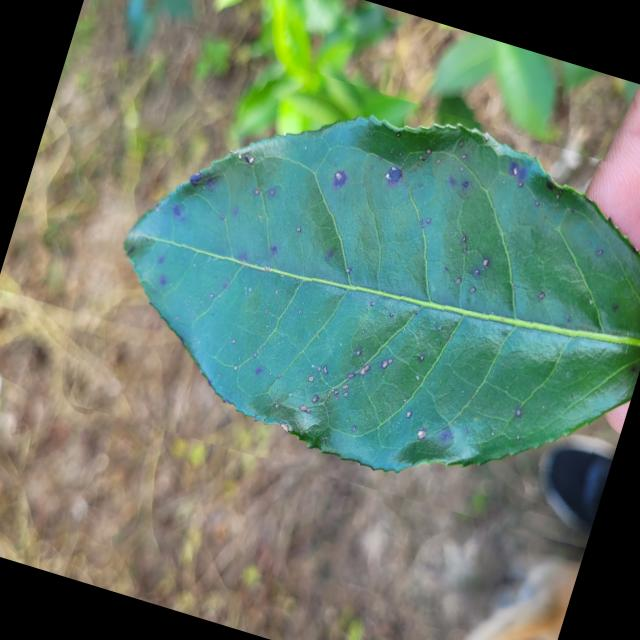Category D 7+ days, Not for Tea: (57, 27, 640, 559)
